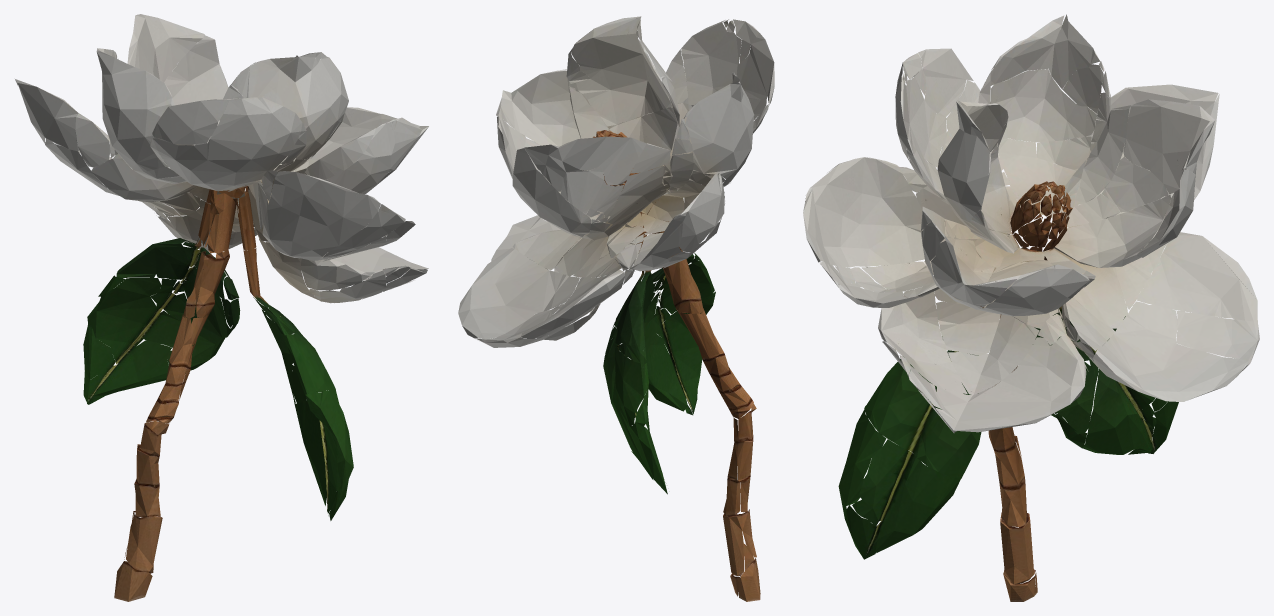
The model's file is flor_06_magnolia.glb.
The picture shows the model from 3 angles, left to right: view 1: azimuth 30°, elevation 25°; view 2: azimuth 150°, elevation 25°; view 3: azimuth 270°, elevation 25°; orthographic projection. The views are drawn at different scales.
Parts seen in each view (by area): view 1: tripo_node_c3c4d7cf-d23a-4b17-9ed8-9df8a534277e; view 2: tripo_node_c3c4d7cf-d23a-4b17-9ed8-9df8a534277e; view 3: tripo_node_c3c4d7cf-d23a-4b17-9ed8-9df8a534277e.
Boxes of the visible parts, x1=… form: tripo_node_c3c4d7cf-d23a-4b17-9ed8-9df8a534277e: x1=15, y1=14, x2=428, y2=601; tripo_node_c3c4d7cf-d23a-4b17-9ed8-9df8a534277e: x1=458, y1=16, x2=774, y2=601; tripo_node_c3c4d7cf-d23a-4b17-9ed8-9df8a534277e: x1=803, y1=14, x2=1259, y2=601.
Bounding box in the file's own units: 0.5753 × 0.9832 × 0.706.
1 material, 1 textured.
